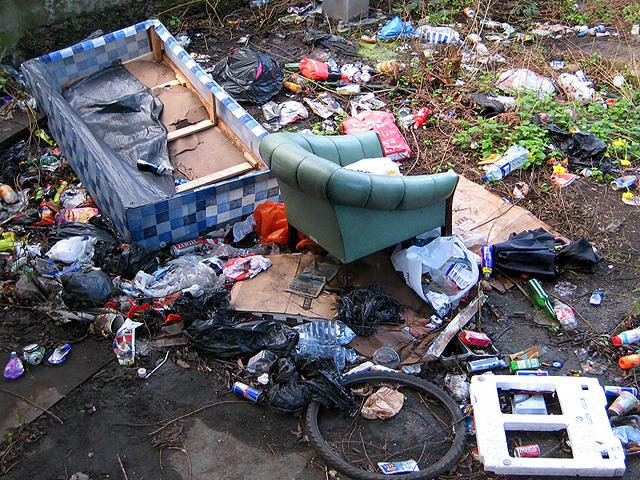garbage: (138, 270, 335, 338), (240, 44, 384, 117), (7, 179, 88, 303)
